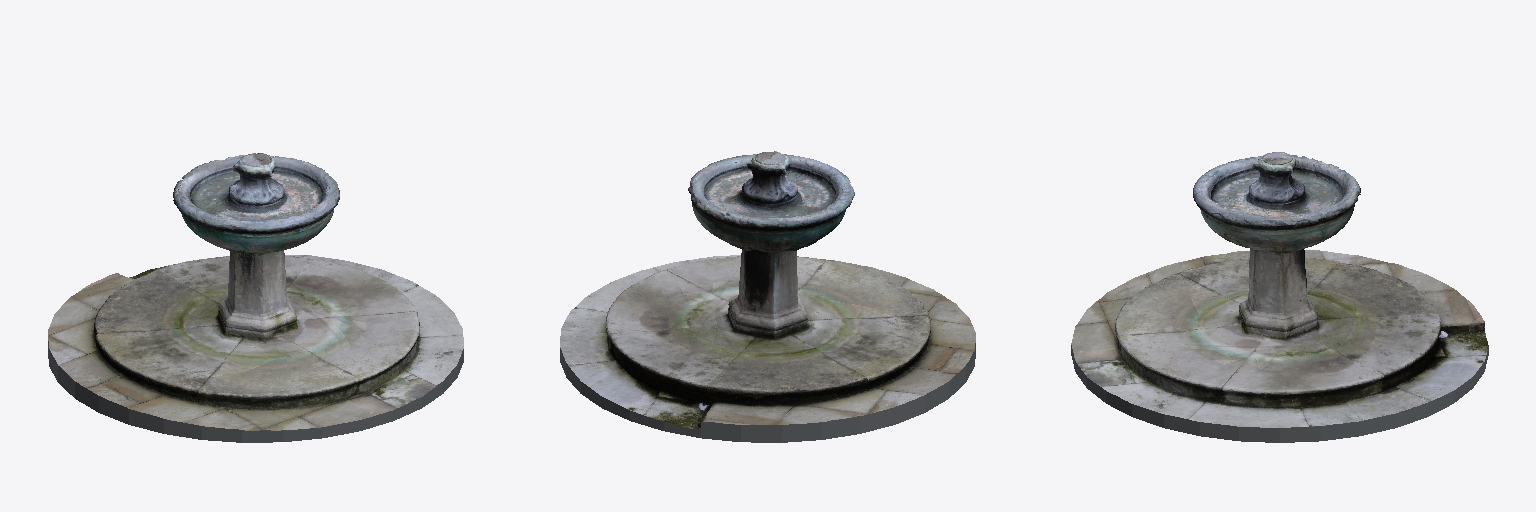
3 views of the same model, side by side, from view 1: azimuth 30°, elevation 25°; view 2: azimuth 150°, elevation 25°; view 3: azimuth 270°, elevation 25° (orthographic).
Visible parts, largest first — view 1: horniman-fountain; view 2: horniman-fountain; view 3: horniman-fountain.
Boxes of the visible parts, x1,y1,x2,y2 form: horniman-fountain: [48, 153, 463, 442]; horniman-fountain: [560, 151, 975, 442]; horniman-fountain: [1071, 152, 1488, 442].
Bounding box in the file's own units: 9.53 × 4.98 × 9.53.
2 materials, 1 textured.